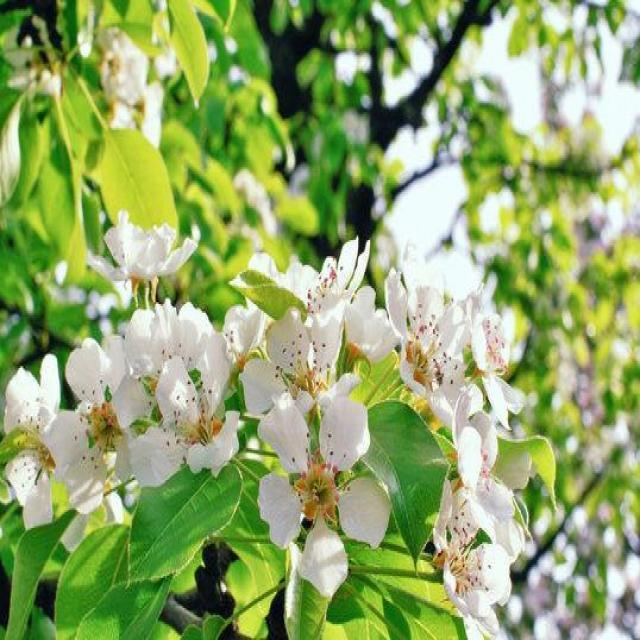Bunga: (262, 398, 391, 596), (73, 340, 174, 512), (130, 359, 254, 491), (388, 254, 473, 423), (1, 361, 88, 523), (253, 318, 354, 436), (432, 483, 507, 622), (274, 235, 372, 336), (449, 393, 516, 526), (96, 213, 204, 288)
